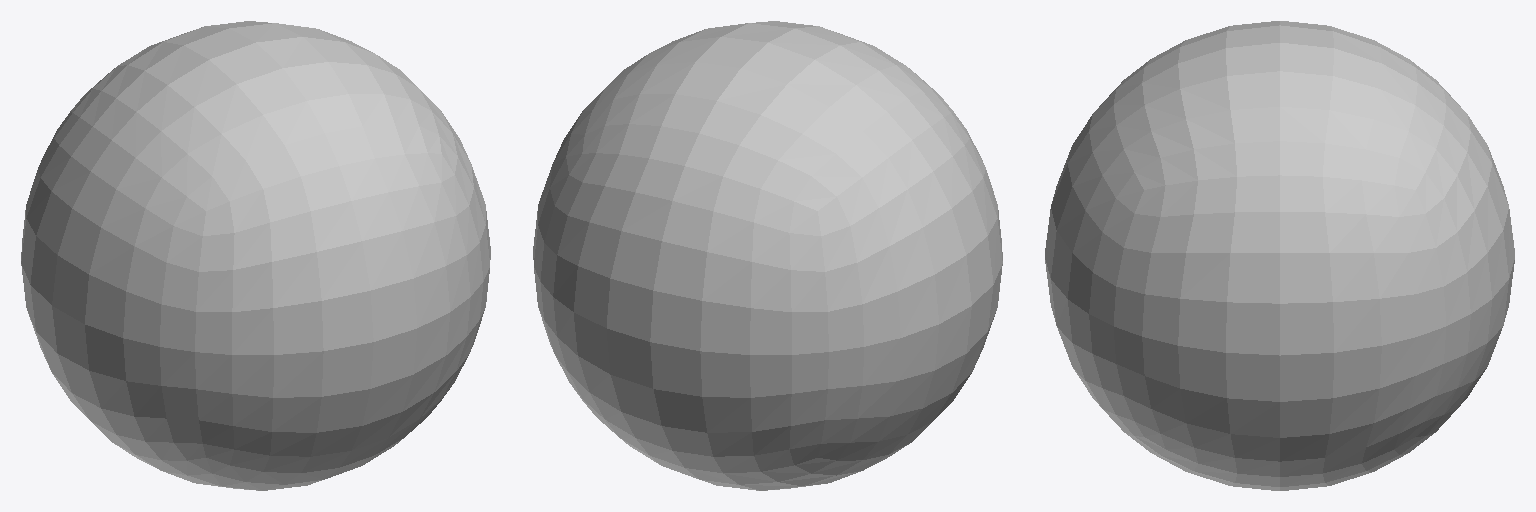
File: unreal_shaderball.OBJ
The picture shows the model from 3 angles: view 1: azimuth 30°, elevation 25°; view 2: azimuth 150°, elevation 25°; view 3: azimuth 270°, elevation 25°; orthographic projection.
Visible parts, largest first — view 1: UnrealEdObject.004; view 2: UnrealEdObject.004; view 3: UnrealEdObject.004.
Boxes of the visible parts, x1=… form: UnrealEdObject.004: x1=21, y1=21, x2=490, y2=490; UnrealEdObject.004: x1=533, y1=21, x2=1002, y2=490; UnrealEdObject.004: x1=1045, y1=21, x2=1514, y2=490.
Bounding box in the file's own units: 0.6952 × 0.6952 × 0.6952.